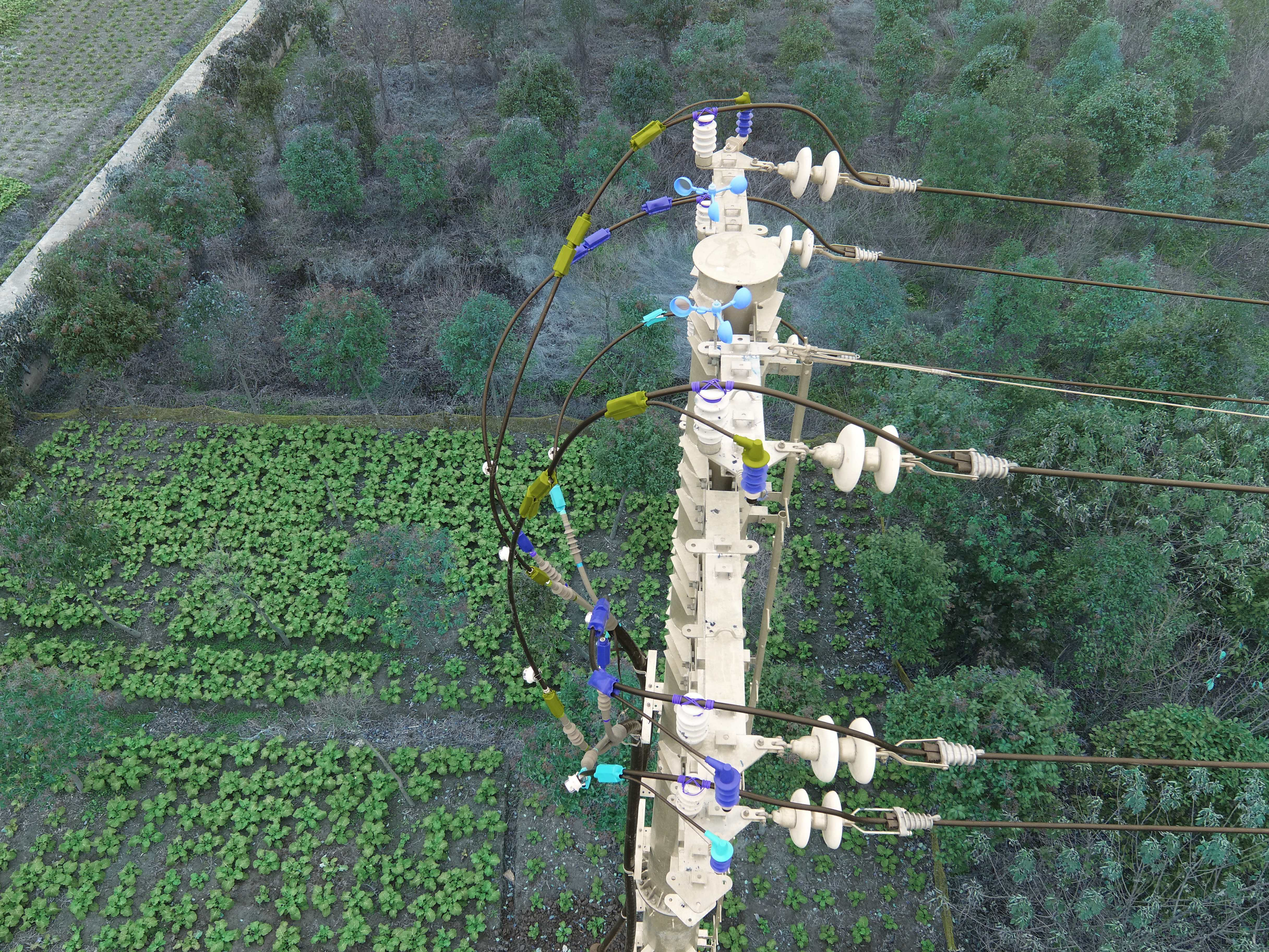severe_soiling_no_discharge_whole: (674, 690, 711, 746), (673, 771, 709, 818)
